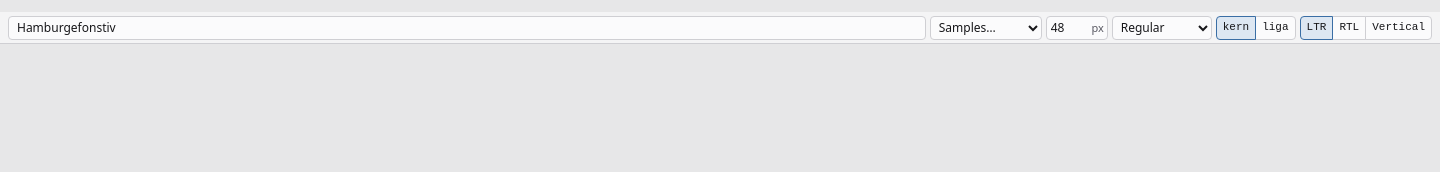
Test: TextBar › cancels a focused size edit on Escape without committing on blur
Replace the text in the field named "Preview size" with "72" at (1077, 28), box [1046,16,1108,40]
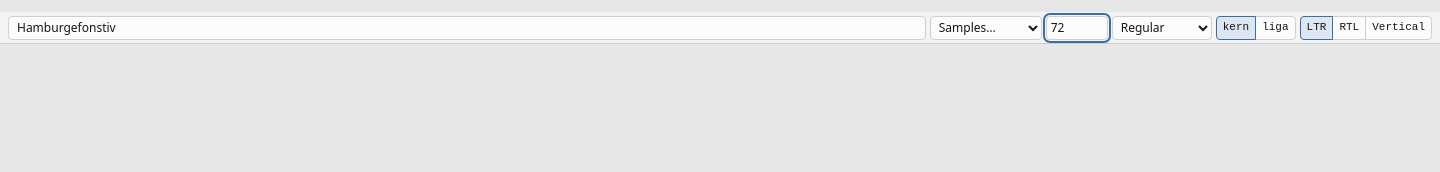
Press Escape
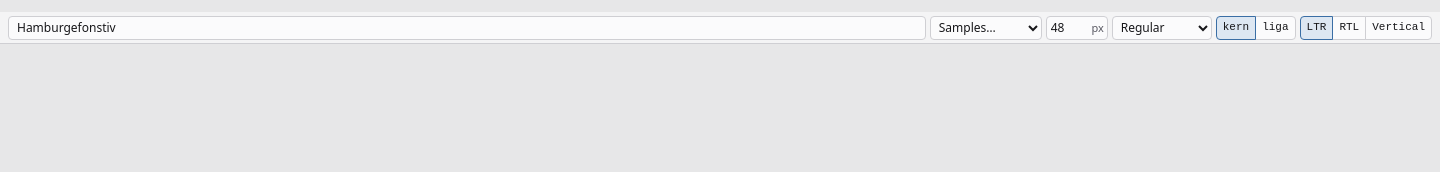
Check: the field named "Preview size" holds "48", box [1046,16,1108,40]
